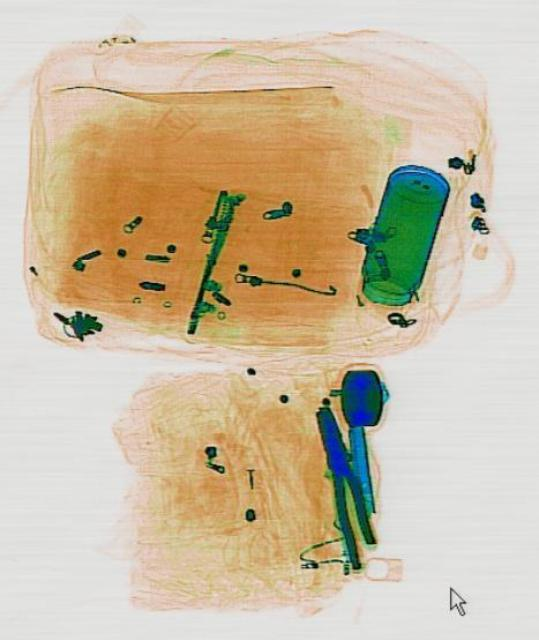Pliers: (304, 402, 381, 570)
